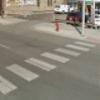crosswalks: (0, 39, 97, 90)
